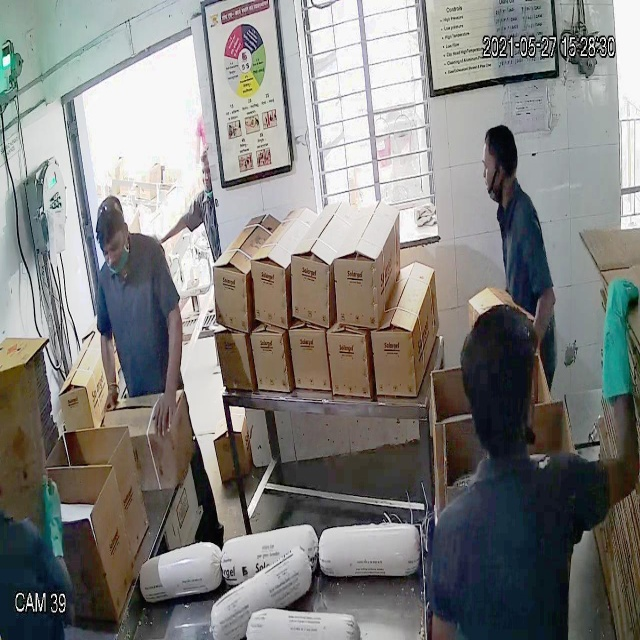Sin_gafas: (98, 232, 126, 260)
